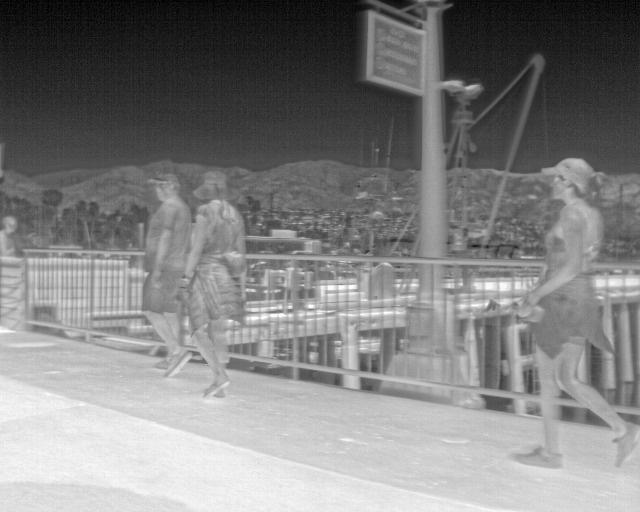empty: (509, 155, 639, 467), (178, 169, 253, 401), (140, 173, 193, 382), (0, 212, 19, 257)
